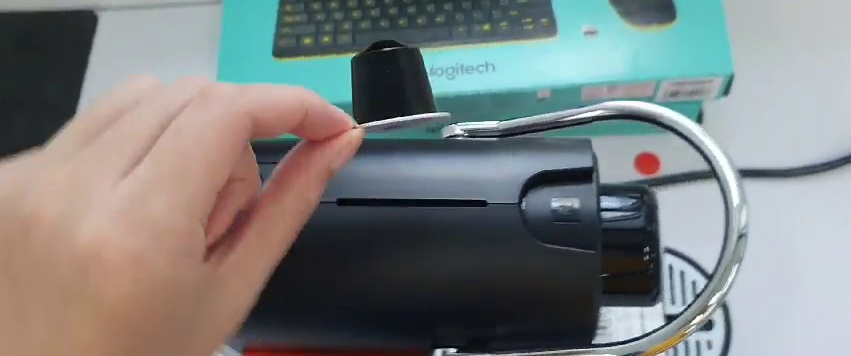capsule_10: (342, 37, 455, 137)
